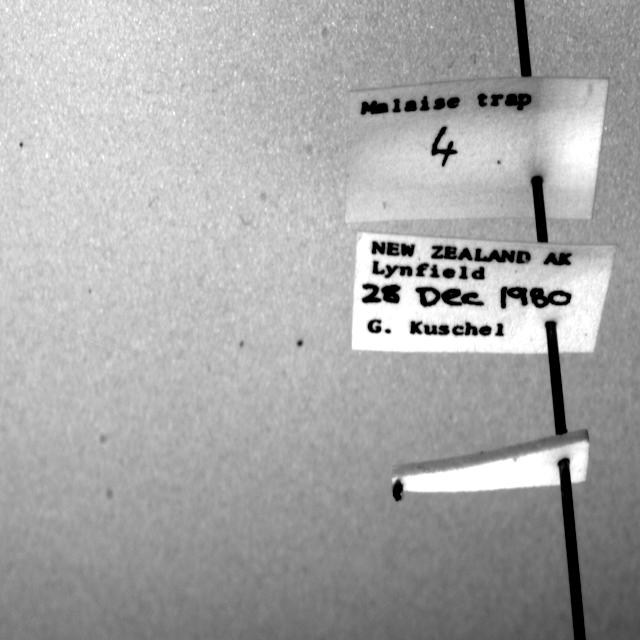mixed_label: (346, 79, 609, 225), (352, 232, 616, 354)
